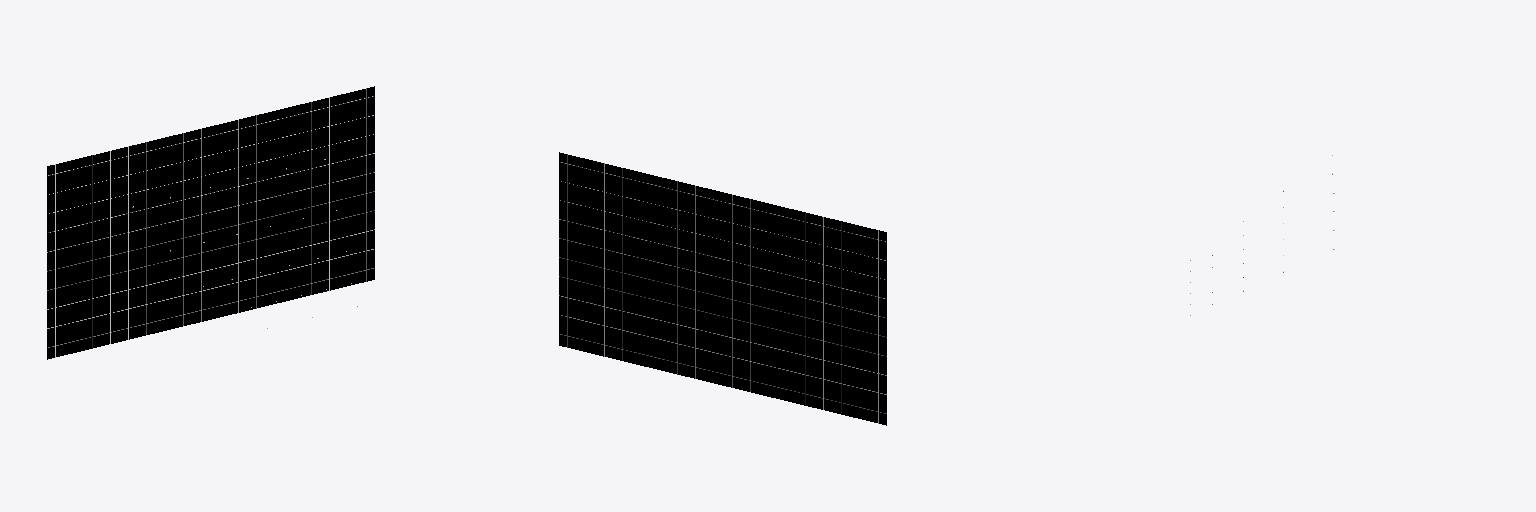
The picture shows the model from 3 angles: view 1: azimuth 30°, elevation 25°; view 2: azimuth 150°, elevation 25°; view 3: azimuth 270°, elevation 25°; orthographic projection.
Visible parts, largest first — view 1: Plane; view 2: Plane; view 3: none.
Boxes of the visible parts, x1,y1,x2,y2 form: Plane: [47, 86, 374, 359]; Plane: [559, 152, 886, 425].
Bounding box in the file's own units: 9 × 5.06 × 4.27.
2 materials, 1 textured.